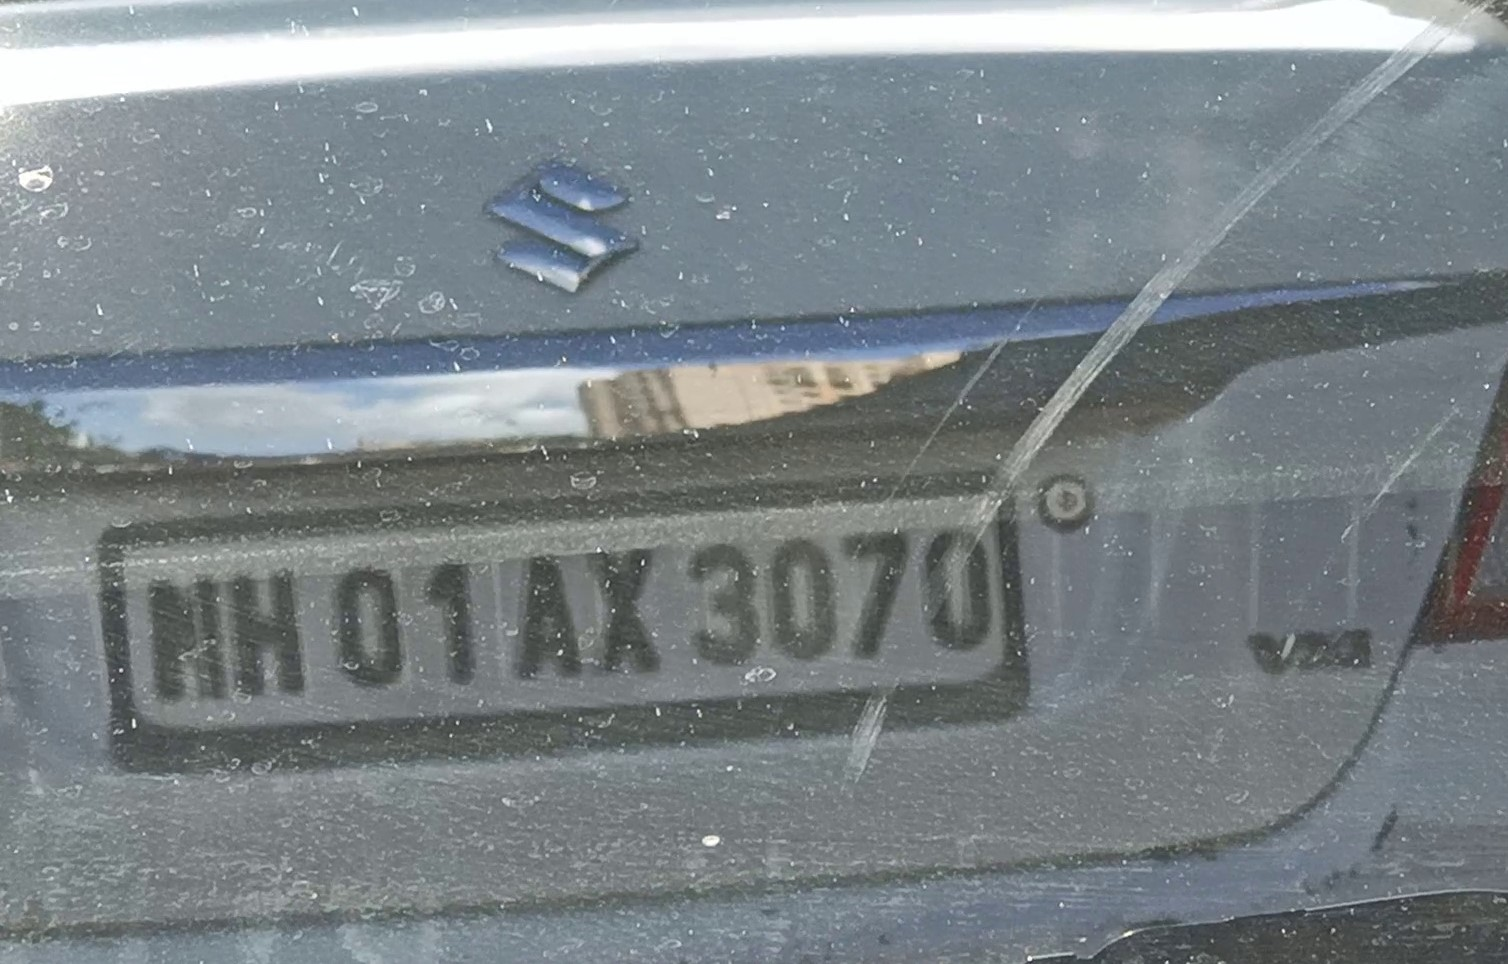MH01AX3070: (125, 494, 1005, 722)
